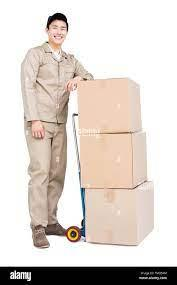Boxes: (85, 189, 159, 243), (78, 134, 148, 190), (76, 80, 141, 134)
